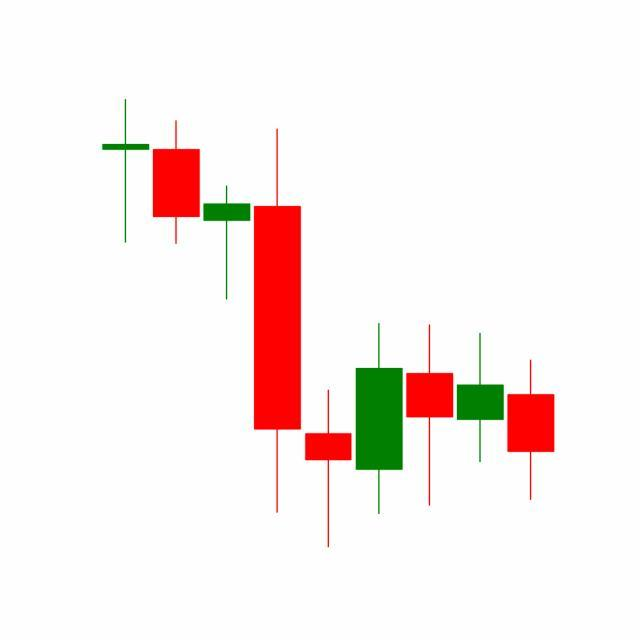Hikkake Pattern: (302, 320, 555, 548)
